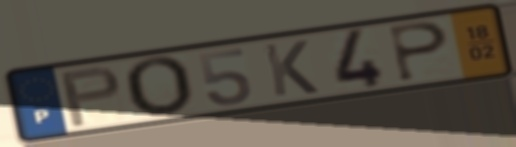4: (331, 26, 388, 91)
5: (194, 46, 255, 108)
K: (260, 38, 322, 99)
O: (120, 55, 195, 120)
P: (57, 64, 124, 130), (386, 20, 452, 84)
